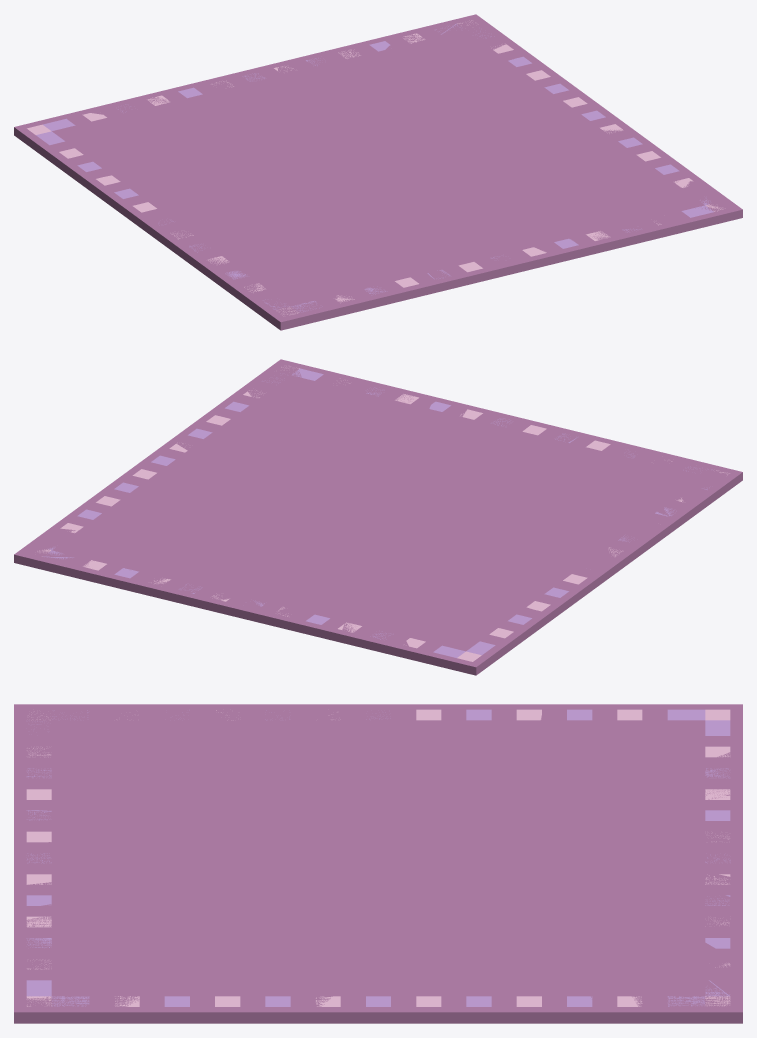
File: TeppichPink.fbx
The picture shows the model from 3 angles, top to bottom: view 1: azimuth 30°, elevation 25°; view 2: azimuth 150°, elevation 25°; view 3: azimuth 270°, elevation 25°; orthographic projection. The views are drawn at different scales.
Visible parts, largest first — view 1: Teppich02Pink; view 2: Teppich02Pink; view 3: Teppich02Pink.
Part boxes in pixels (left/top/right/bottom): Teppich02Pink: left=14, top=14, right=742, bottom=330; Teppich02Pink: left=14, top=359, right=742, bottom=675; Teppich02Pink: left=14, top=704, right=742, bottom=1023.
Size of the model in its own units: 362 by 6.25 by 362.
